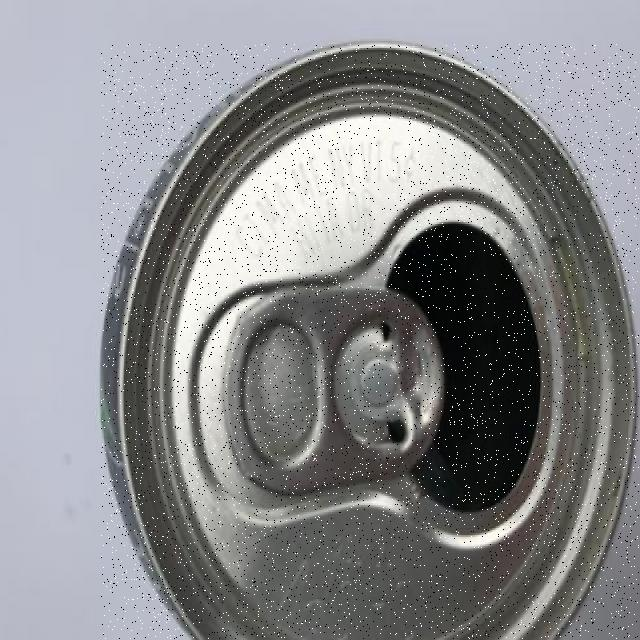metal: (101, 45, 639, 640)
